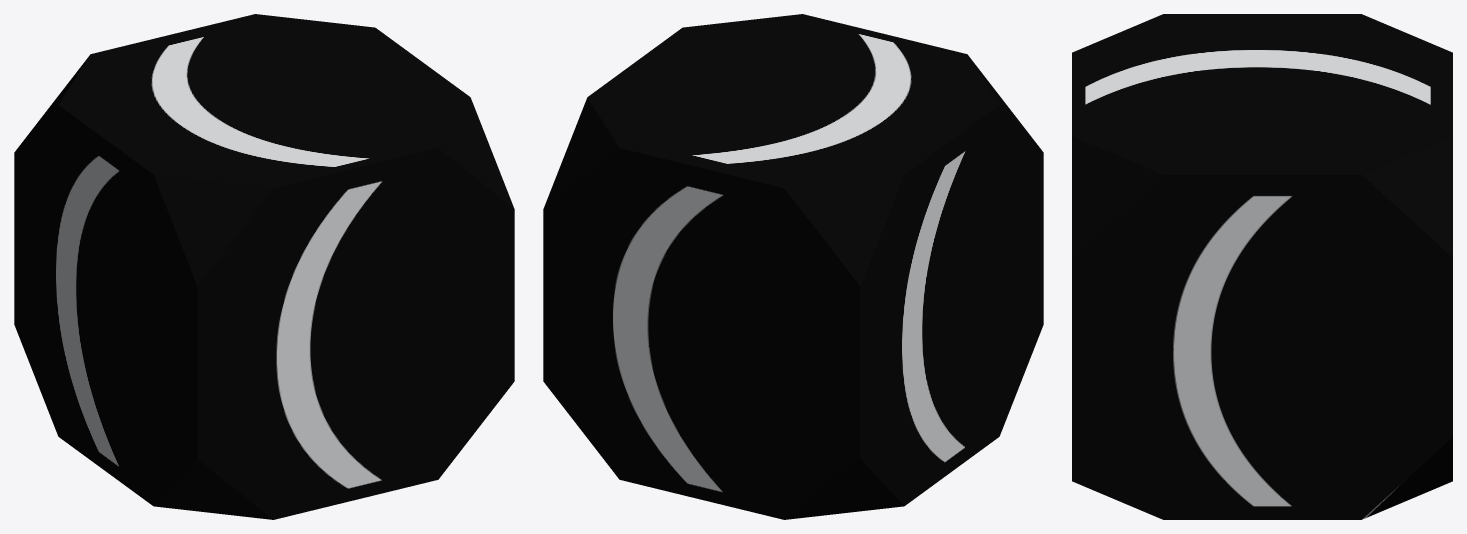
The model's file is BlockBase - Bracket1.fbx.
3 views of the same model, side by side, from view 1: azimuth 30°, elevation 25°; view 2: azimuth 150°, elevation 25°; view 3: azimuth 270°, elevation 25° (orthographic). The views are drawn at different scales.
Parts seen in each view (by area): view 1: Cube.013; view 2: Cube.013; view 3: Cube.013.
Boxes of the visible parts, x1=… form: Cube.013: x1=14, y1=14, x2=514, y2=519; Cube.013: x1=543, y1=14, x2=1043, y2=519; Cube.013: x1=1072, y1=14, x2=1452, y2=519.
Size of the model in its own units: 50 by 50 by 50.
Materials: 1 (1 with a texture image).
